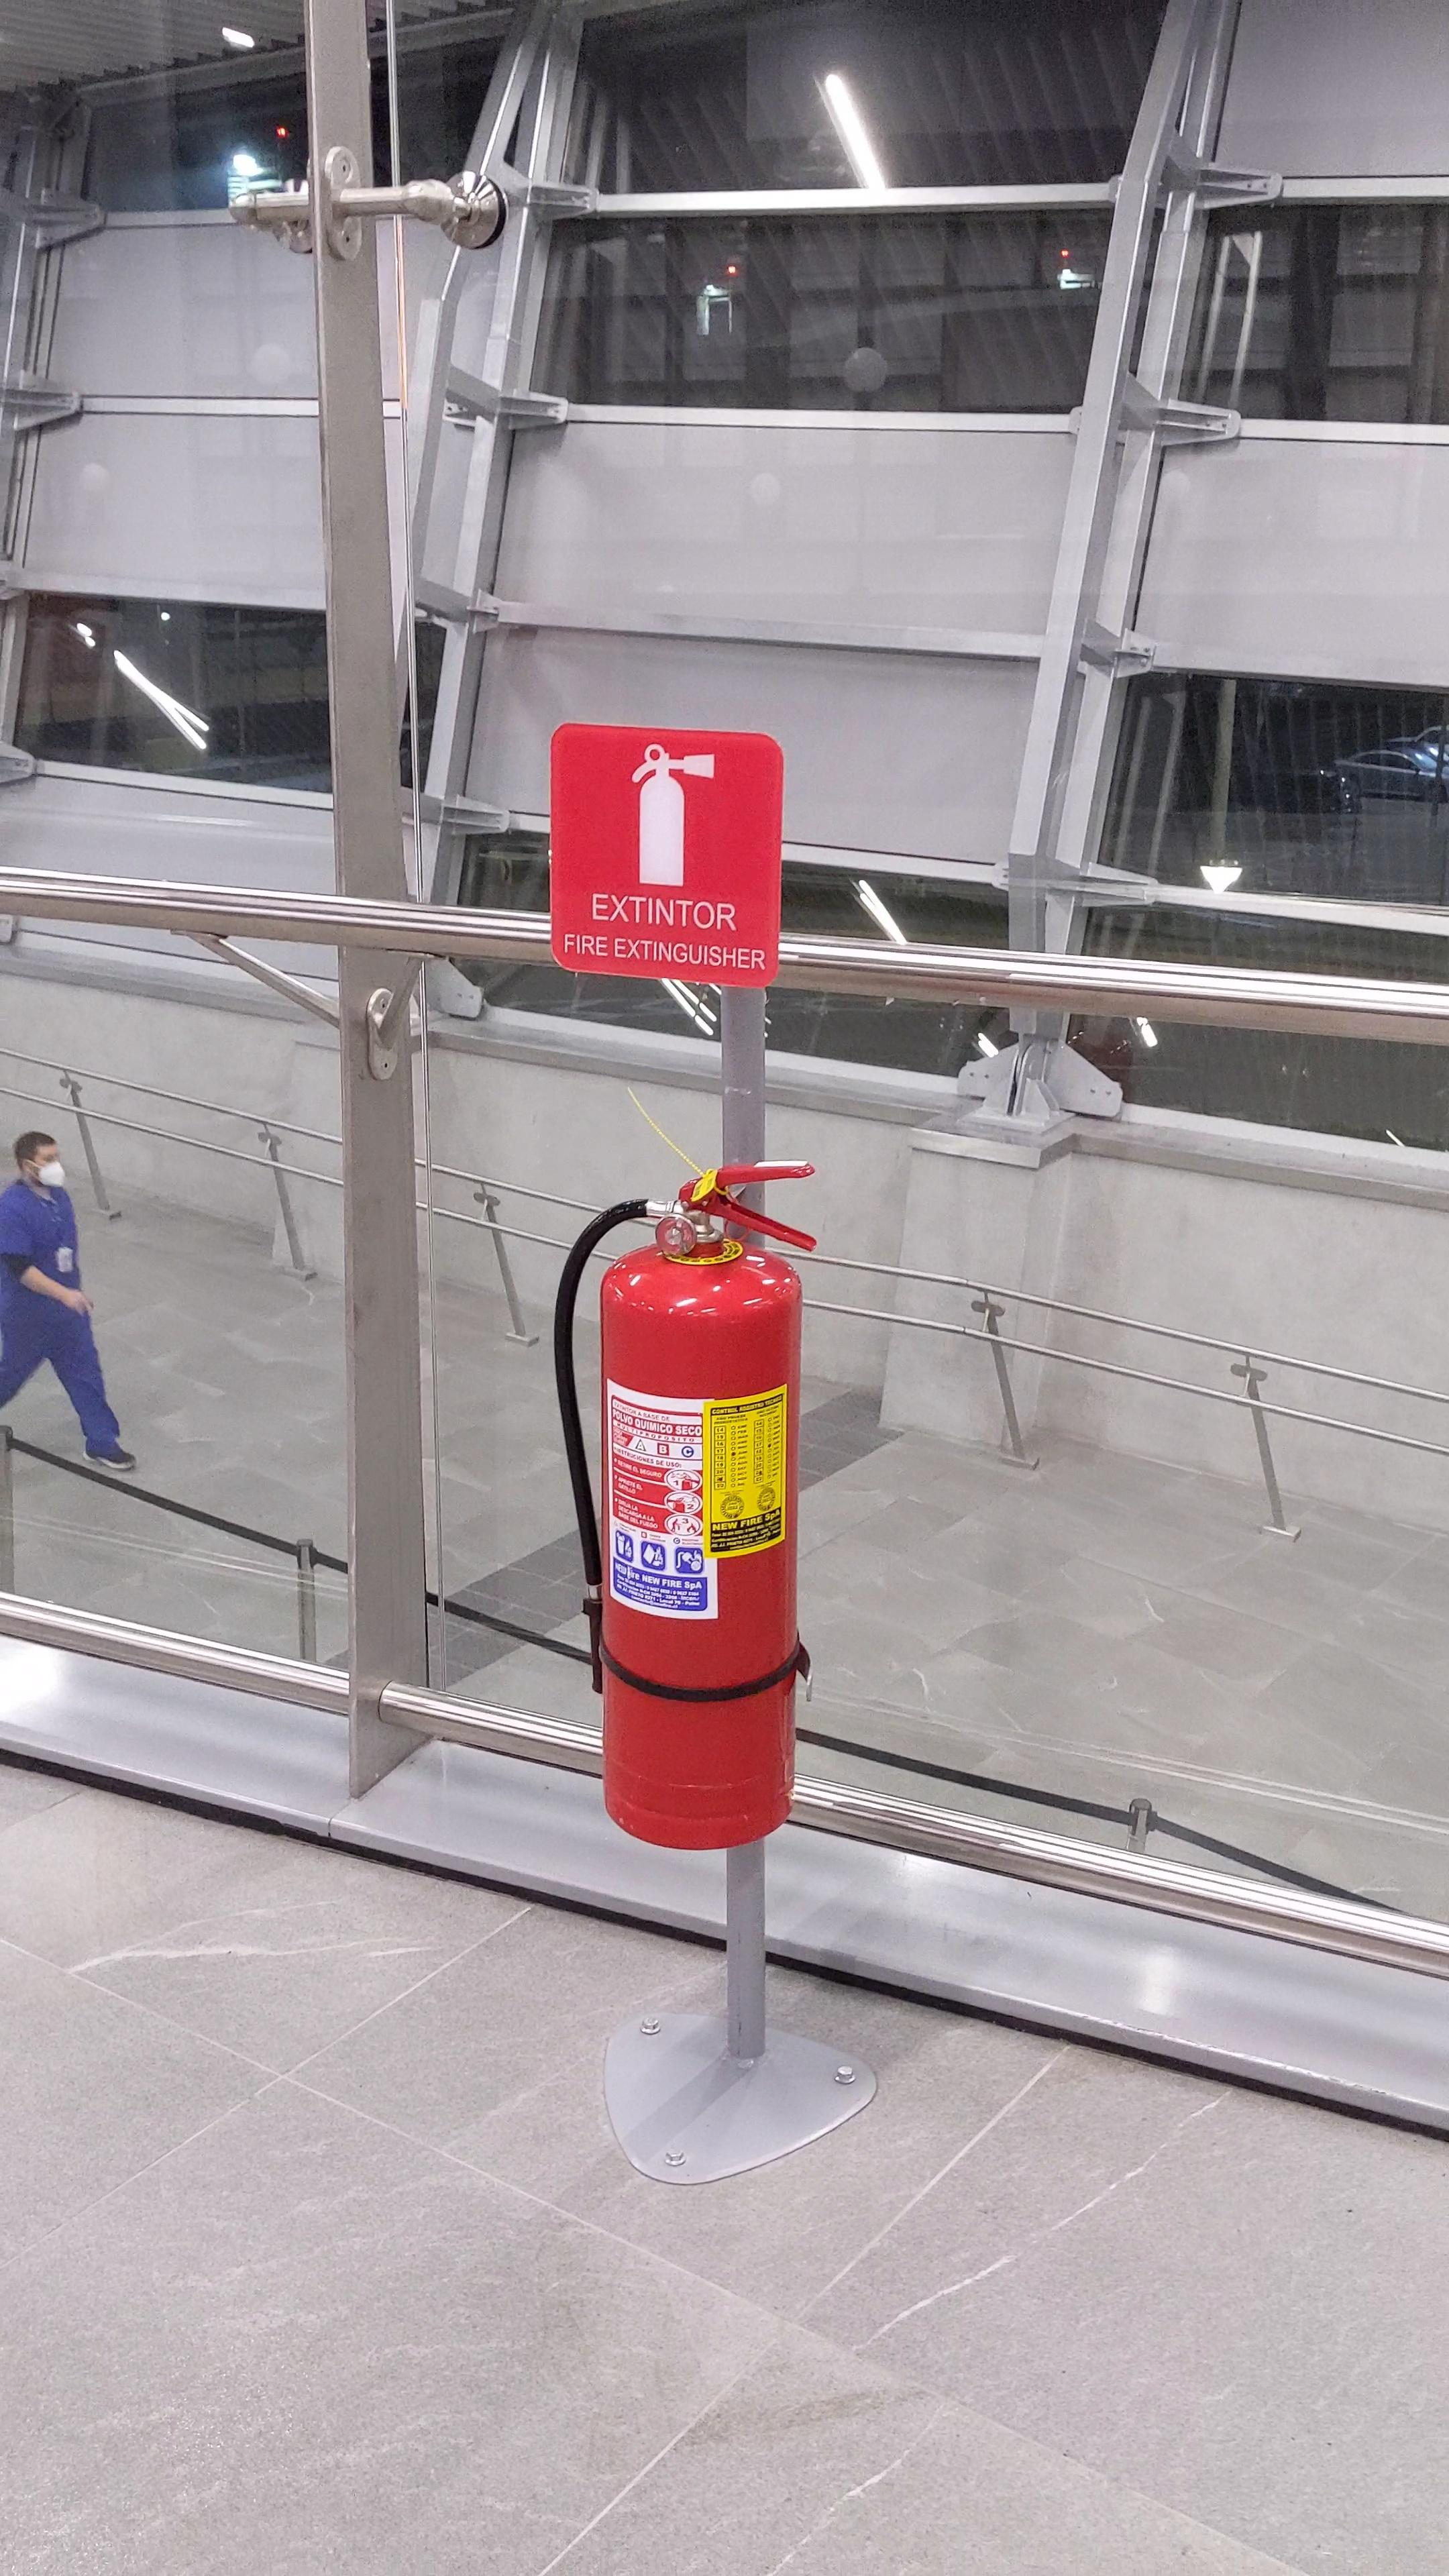extinguisher symbol: (632, 741, 718, 890)
fire-extinguisher: (543, 1136, 828, 1854)
